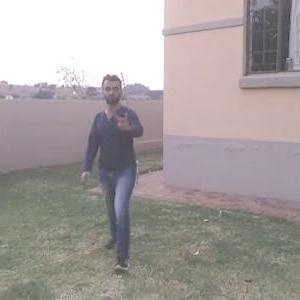takeoff-hand: (109, 107, 137, 137)
